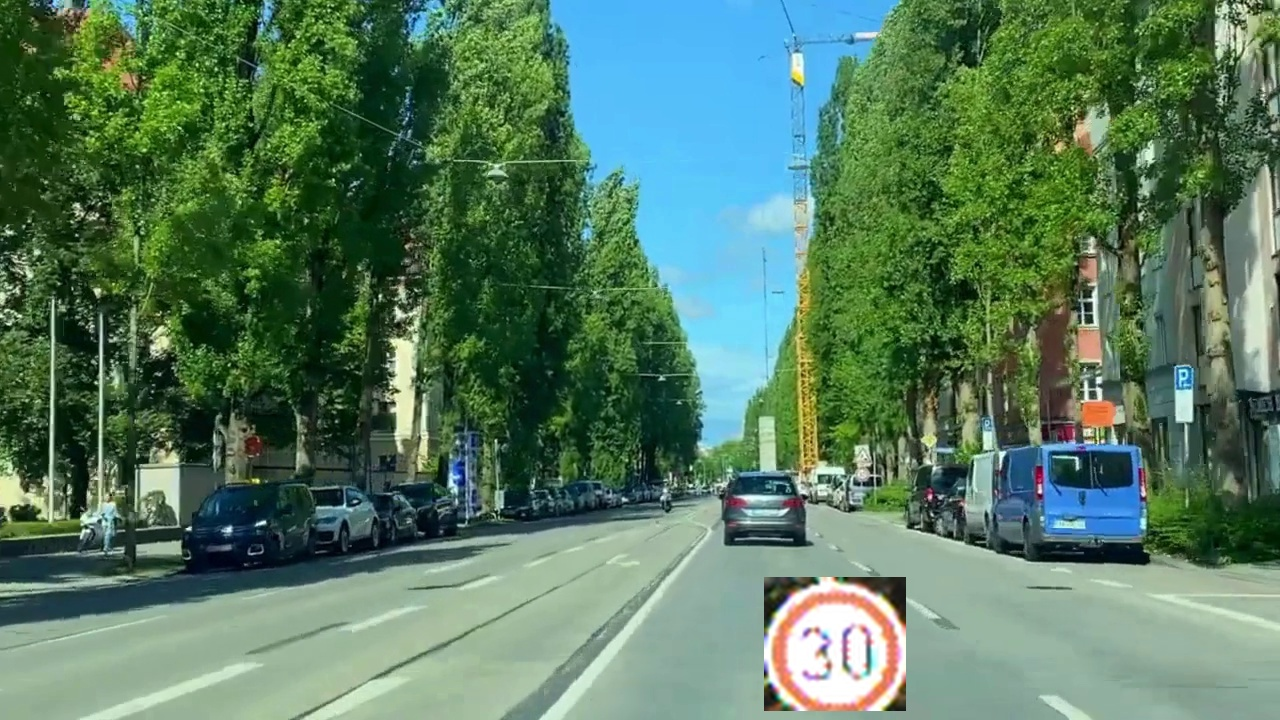Speed 30: (764, 577, 906, 711)
